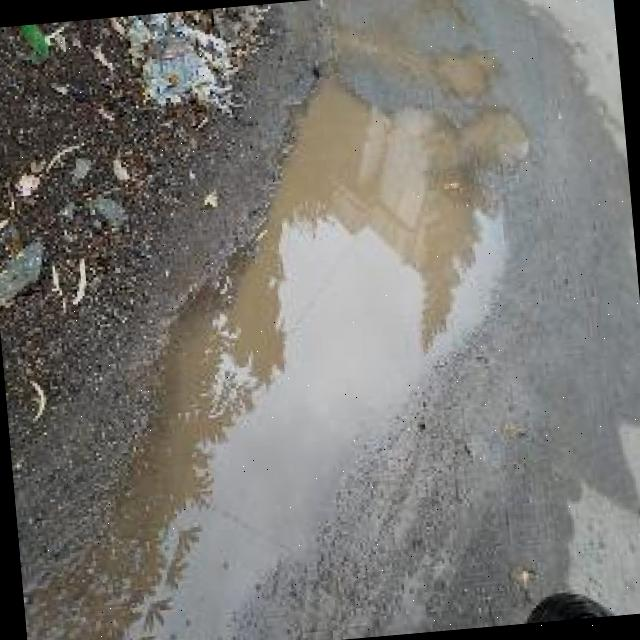stagnation: (235, 60, 570, 519)
